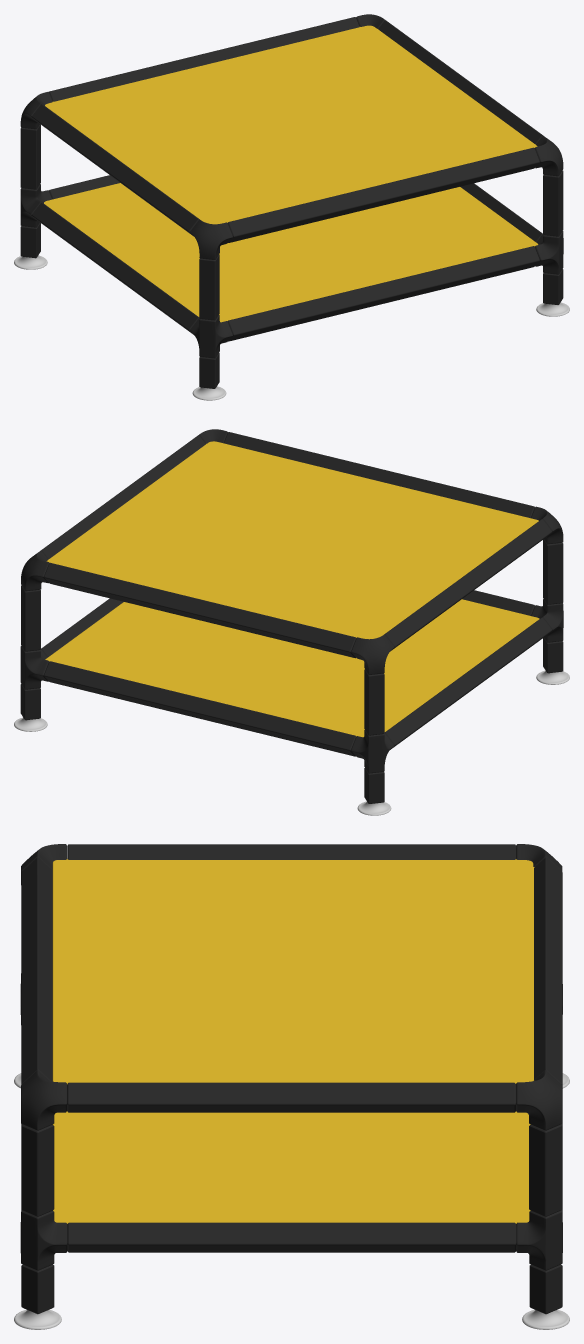
3 views of the same model, one above another, from view 1: azimuth 30°, elevation 25°; view 2: azimuth 150°, elevation 25°; view 3: azimuth 270°, elevation 25° (orthographic). The views are drawn at different scales.
Visible parts, largest first — view 1: 420x374x79; view 2: 420x374x79; view 3: 420x374x79.
Part boxes in pixels (<box>): 420x374x79: <box>14,14,569,400</box>; 420x374x79: <box>14,429,569,815</box>; 420x374x79: <box>14,844,569,1329</box>.
Size of the model in its own units: 0.5099 by 0.2183 by 0.4632.
